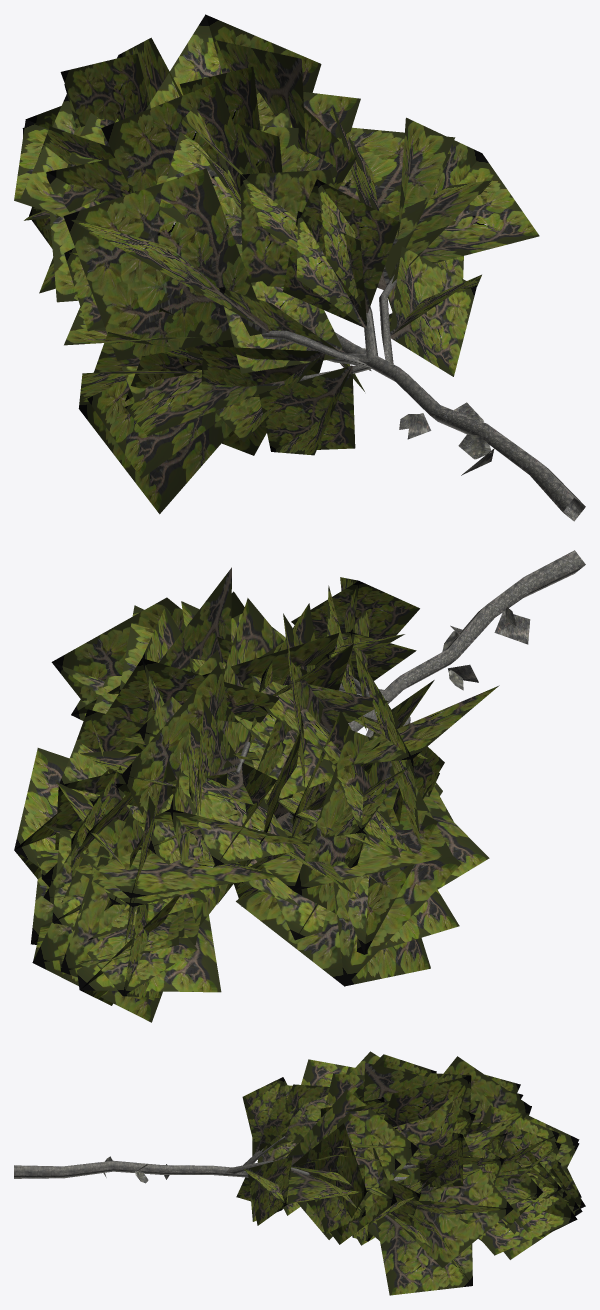
Rendered from small_tree.fbx.
The picture shows the model from 3 angles, top to bottom: view 1: azimuth 30°, elevation 25°; view 2: azimuth 150°, elevation 25°; view 3: azimuth 270°, elevation 25°; orthographic projection. The views are drawn at different scales.
Parts seen in each view (by area): view 1: small_tree; view 2: small_tree; view 3: small_tree.
Boxes of the visible parts, box(x1,y1,x2,y2) form: small_tree: box(14, 14, 585, 521); small_tree: box(14, 550, 585, 1022); small_tree: box(14, 1051, 585, 1295).
Bounding box in the file's own units: 337 × 304 × 714.
